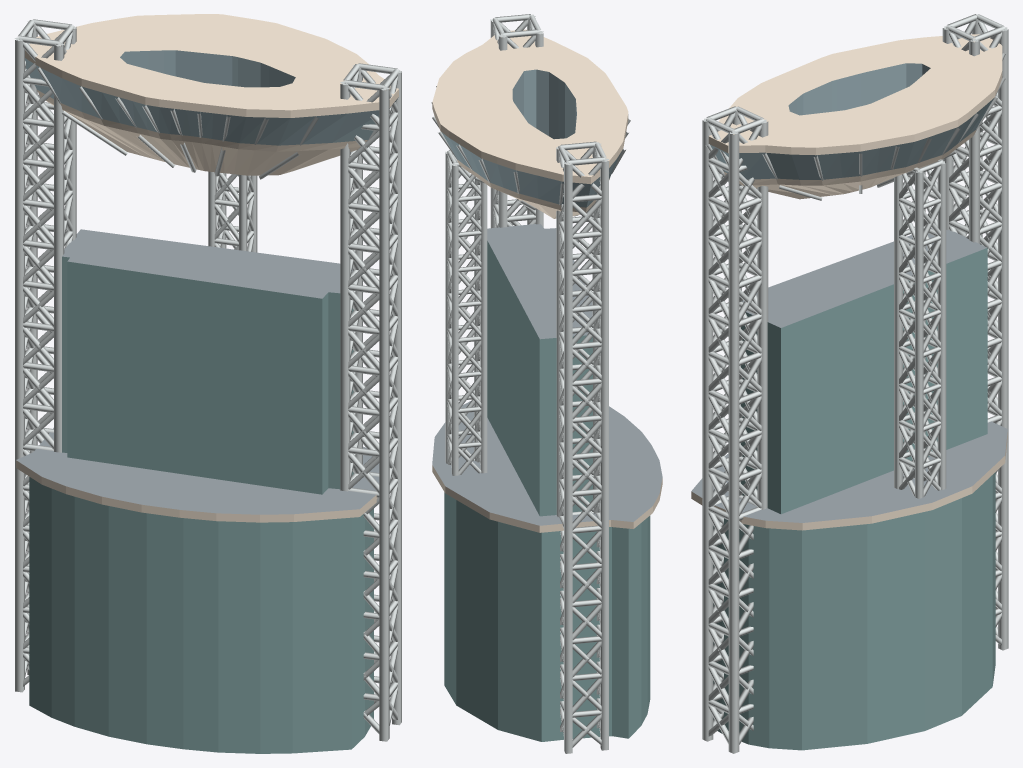
Rendered from seoul-jongno-tower.glb.
3 renders of one model, left to right at view 1: azimuth 30°, elevation 25°; view 2: azimuth 150°, elevation 25°; view 3: azimuth 270°, elevation 25°, orthographic. The views are drawn at different scales.
Parts seen in each view (by area): view 1: Jongno Tower; view 2: Jongno Tower; view 3: Jongno Tower.
Part boxes in pixels (x1=…): Jongno Tower: x1=14, y1=14, x2=401, y2=753; Jongno Tower: x1=431, y1=14, x2=662, y2=753; Jongno Tower: x1=691, y1=14, x2=1008, y2=753.
Bounding box in the file's own units: 59.01 × 133 × 61.81.
